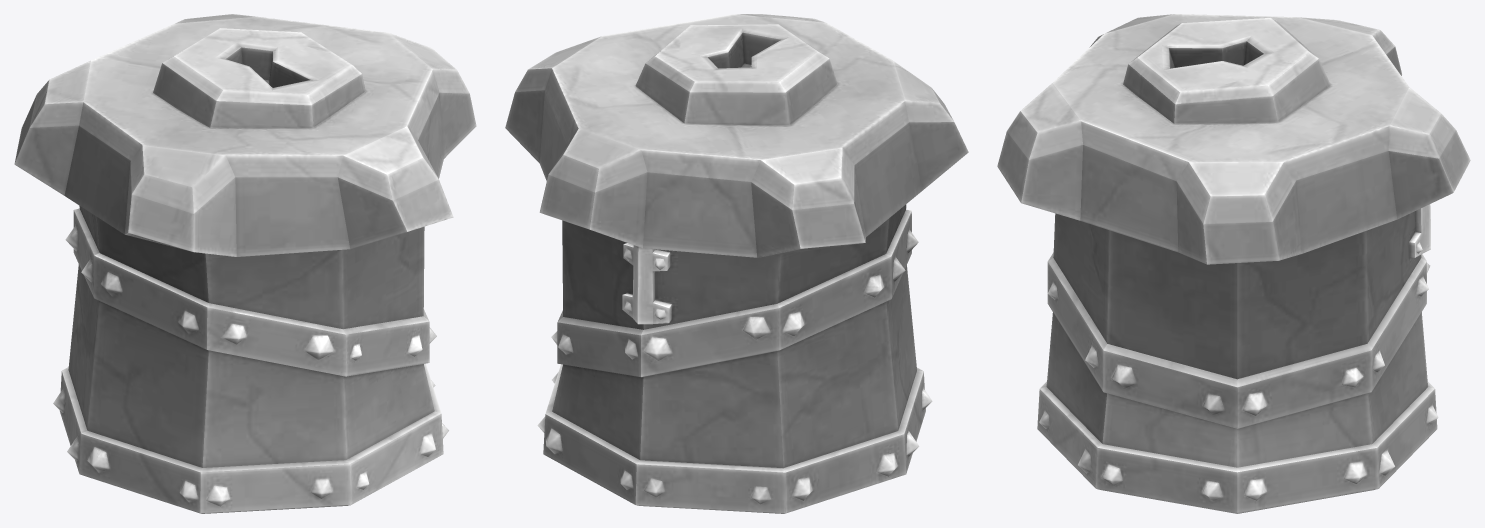
The model's file is obj_chest01_alt.gltf.
The picture shows the model from 3 angles, left to right: view 1: azimuth 30°, elevation 25°; view 2: azimuth 150°, elevation 25°; view 3: azimuth 270°, elevation 25°; orthographic projection.
Parts seen in each view (by area): view 1: obj_chest01_alt; view 2: obj_chest01_alt; view 3: obj_chest01_alt.
Boxes of the visible parts, bbox=[...] form: obj_chest01_alt: bbox=[14, 14, 476, 513]; obj_chest01_alt: bbox=[505, 14, 968, 513]; obj_chest01_alt: bbox=[997, 14, 1470, 513].
Size of what is drawn, in the model's own units: 1.09 by 1.01 by 1.12.
1 material, 1 textured.
